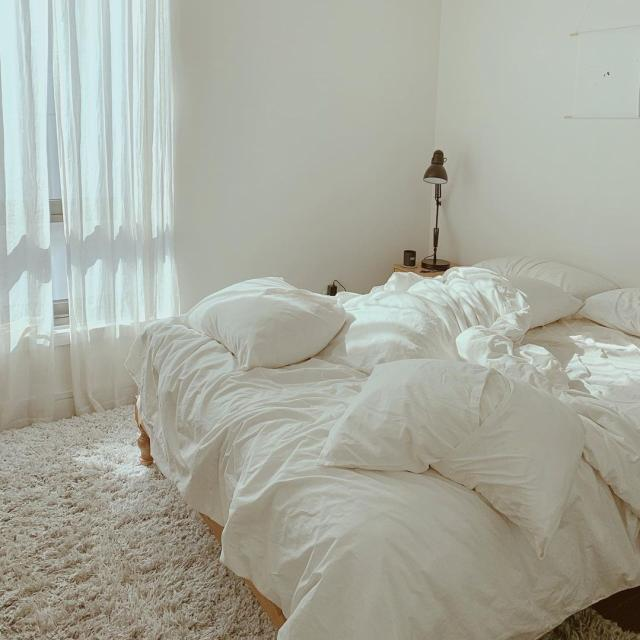bed: (141, 245, 632, 620)
